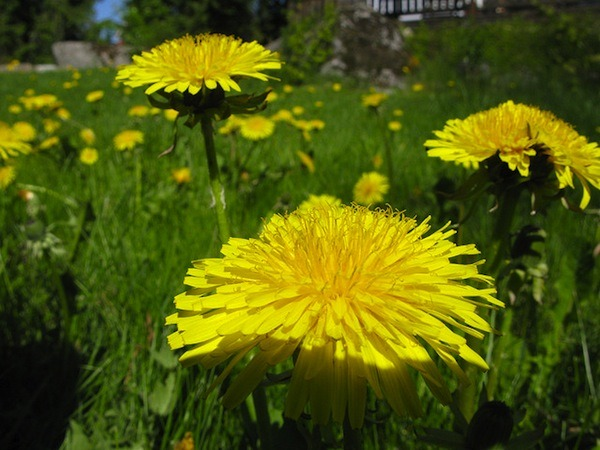dandelion: (204, 213, 480, 415), (445, 101, 586, 193), (137, 40, 259, 92)
